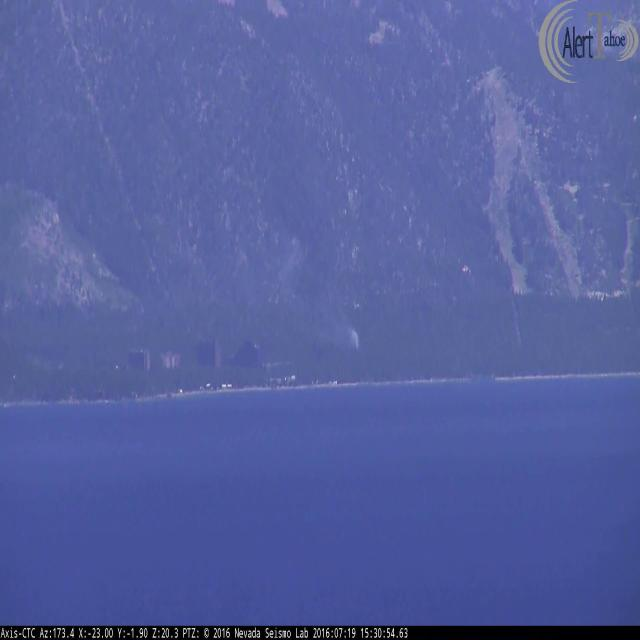smoke: (312, 297, 370, 351)
